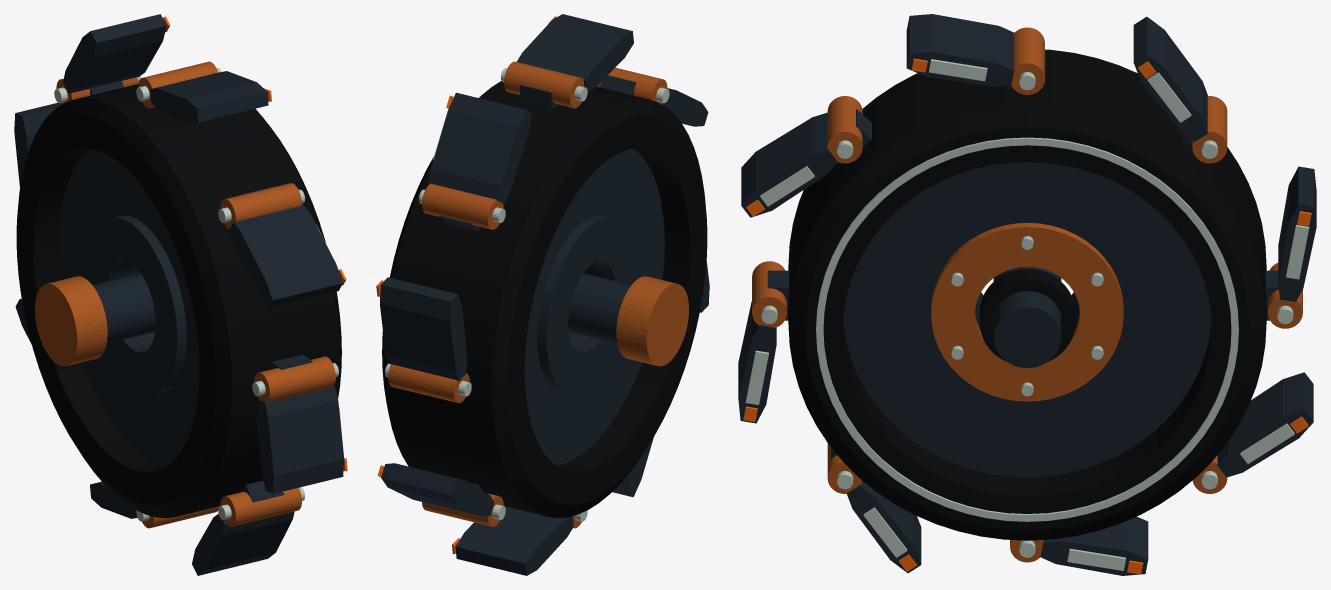
3 renders of one model, left to right at view 1: azimuth 30°, elevation 25°; view 2: azimuth 150°, elevation 25°; view 3: azimuth 270°, elevation 25°, orthographic. The views are drawn at different scales.
Parts seen in each view (by area): view 1: rubber_rolling_hoop, steel_web_open_bore, rear_hub_steel, folding_paddle_01, folding_paddle_02, mount_side_flange, folding_paddle_07, folding_paddle_00, folding_paddle_03, stationary_axle, hinge_barrel_02, hinge_barrel_01 (+6 smaller); view 2: rubber_rolling_hoop, steel_web_open_bore, rear_hub_steel, folding_paddle_07, folding_paddle_06, mount_side_flange, folding_paddle_00, folding_paddle_04, folding_paddle_05, stationary_axle, hinge_barrel_07, hinge_barrel_00 (+7 smaller); view 3: rubber_rolling_hoop, steel_web_open_bore, front_hub_copper, front_rim_ceramic_stripe, folding_paddle_00, folding_paddle_01, stationary_axle, folding_paddle_05, folding_paddle_07, folding_paddle_04, stationary_dust_seal, folding_paddle_06 (+15 smaller).
Part boxes in pixels (<box>): rubber_rolling_hoop: <box>16,84,341,518</box>; steel_web_open_bore: <box>59,148,199,465</box>; rear_hub_steel: <box>86,215,186,395</box>; folding_paddle_01: <box>229,205,342,307</box>; folding_paddle_02: <box>256,385,343,493</box>; mount_side_flange: <box>35,276,107,366</box>; folding_paddle_07: <box>63,14,166,93</box>; folding_paddle_00: <box>150,71,268,123</box>; folding_paddle_03: <box>192,511,294,575</box>; stationary_axle: <box>92,273,155,343</box>; hinge_barrel_02: <box>254,356,335,402</box>; hinge_barrel_01: <box>220,183,301,229</box>; rubber_rolling_hoop: <box>382,81,707,518</box>; steel_web_open_bore: <box>524,148,664,465</box>; rear_hub_steel: <box>537,215,637,395</box>; folding_paddle_07: <box>428,92,531,203</box>; folding_paddle_06: <box>380,277,467,380</box>; mount_side_flange: <box>616,276,688,366</box>; folding_paddle_00: <box>516,14,633,91</box>; folding_paddle_04: <box>455,506,573,575</box>; folding_paddle_05: <box>381,463,494,516</box>; stationary_axle: <box>568,273,631,343</box>; hinge_barrel_07: <box>422,183,503,229</box>; hinge_barrel_00: <box>504,61,584,108</box>; rubber_rolling_hoop: <box>788,49,1266,540</box>; steel_web_open_bore: <box>843,162,1211,477</box>; front_hub_copper: <box>931,222,1123,401</box>; front_rim_ceramic_stripe: <box>816,137,1238,521</box>; folding_paddle_00: <box>906,14,1014,86</box>; folding_paddle_01: <box>741,112,837,217</box>; stationary_axle: <box>993,266,1061,368</box>; folding_paddle_05: <box>1217,372,1313,477</box>; folding_paddle_07: <box>1133,16,1207,141</box>; folding_paddle_04: <box>1040,516,1148,575</box>; stationary_dust_seal: <box>979,269,1075,361</box>; folding_paddle_06: <box>1278,166,1316,301</box>.
Size of the model in its own units: 0.385 by 0.8584 by 0.8584.
